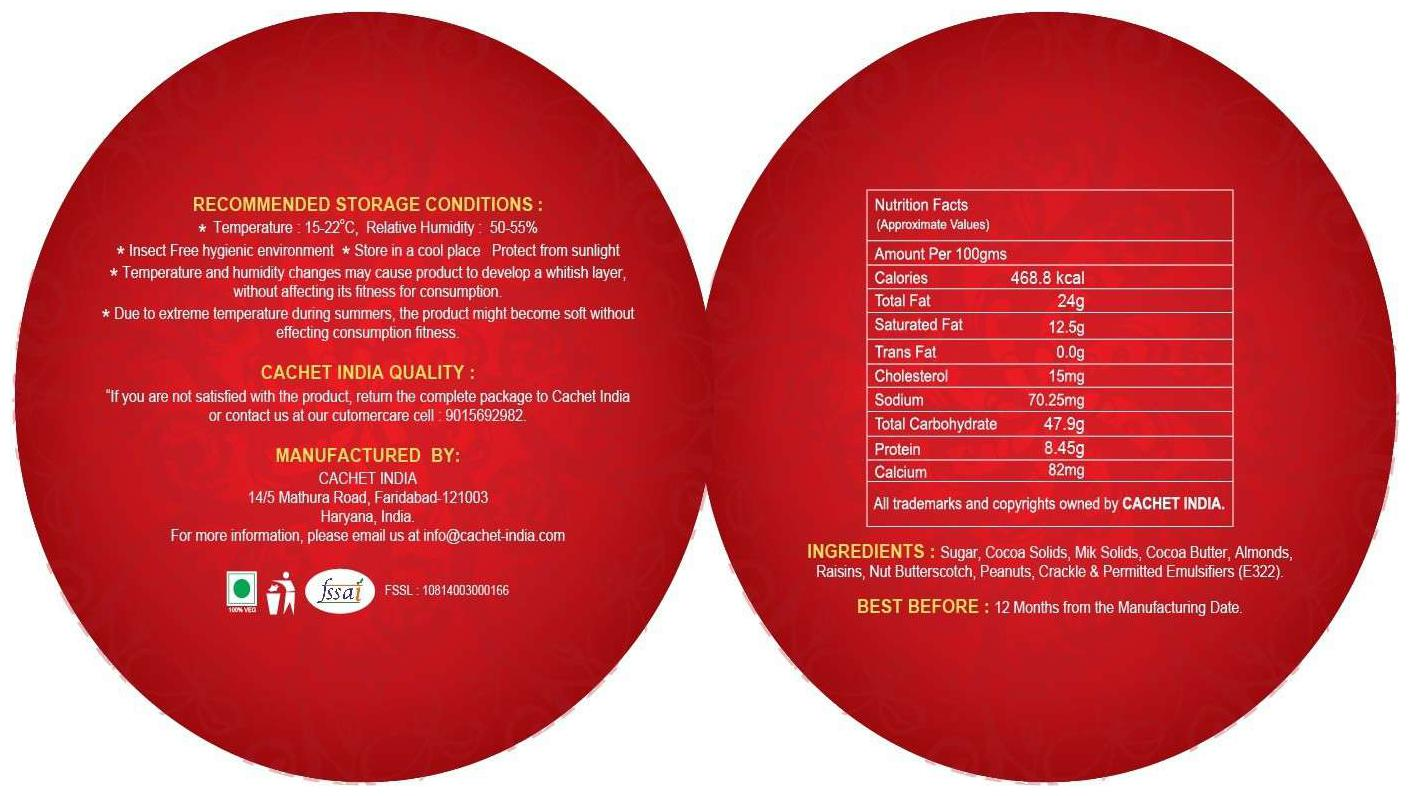fssai: (316, 577, 366, 605)
